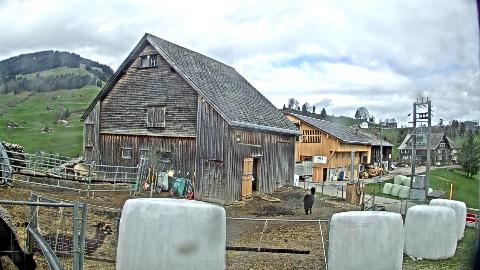car: (390, 162, 396, 172)
sheep: (37, 220, 114, 260), (0, 205, 36, 263), (0, 214, 34, 268), (302, 186, 318, 216), (74, 164, 98, 184), (64, 164, 78, 180), (252, 177, 256, 183)
